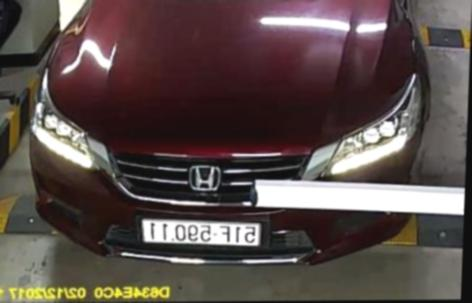License_Plate: (139, 220, 265, 250)
